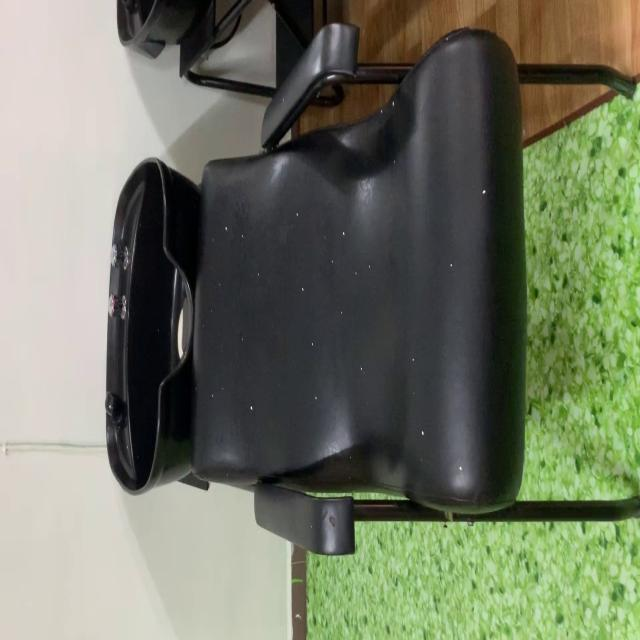chair: (97, 20, 636, 568)
